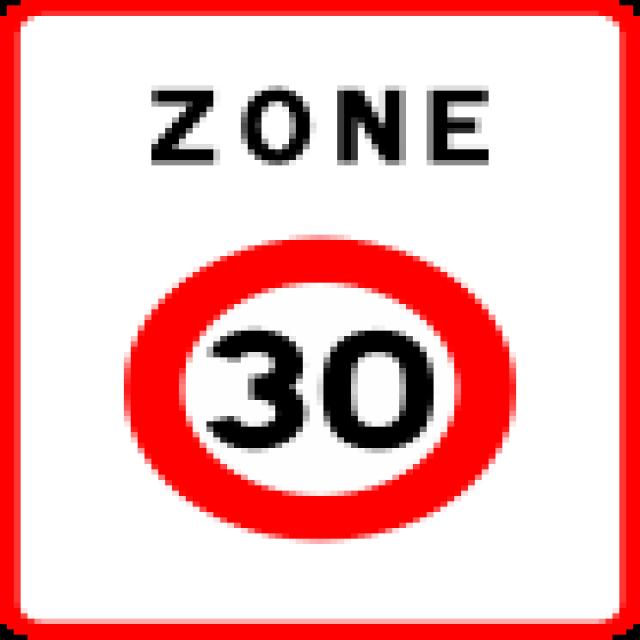speed_30: (0, 0, 640, 640), (125, 229, 521, 547)
